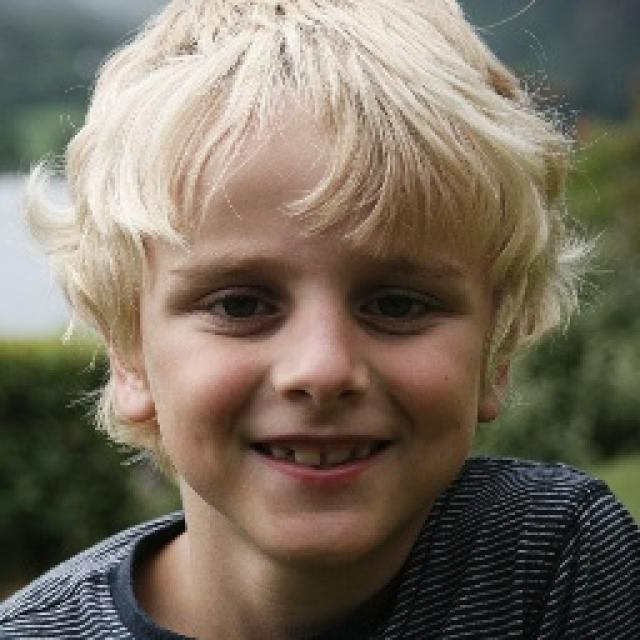earlobe: (106, 330, 158, 423)
